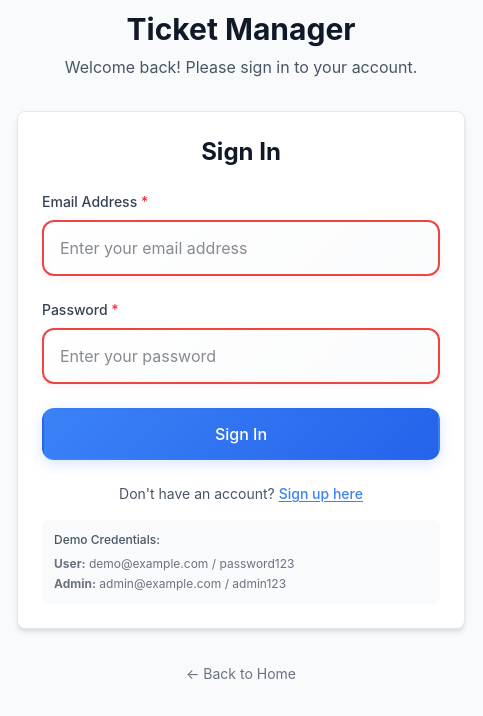
Test case: Authentication Flow Integration › Form Switching › switches between login and signup forms
Expected: the heading "Sign In" is shown, [201,137,281,166]
Note: Switch to signup
Click the button "Sign up here". click: (321, 494)
box: [279,484,363,504]
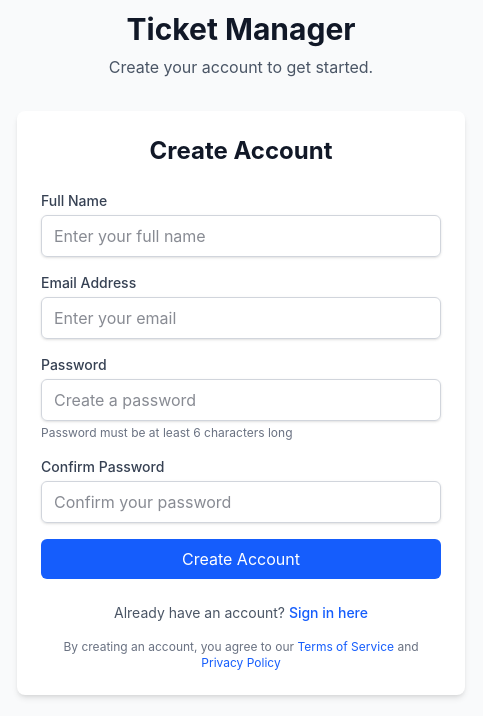
Result: the heading "Create Account" is shown at [150,136,332,165]
Note: Switch back to login
Click the button "Sign in here". click: (328, 613)
box: [289,603,368,623]
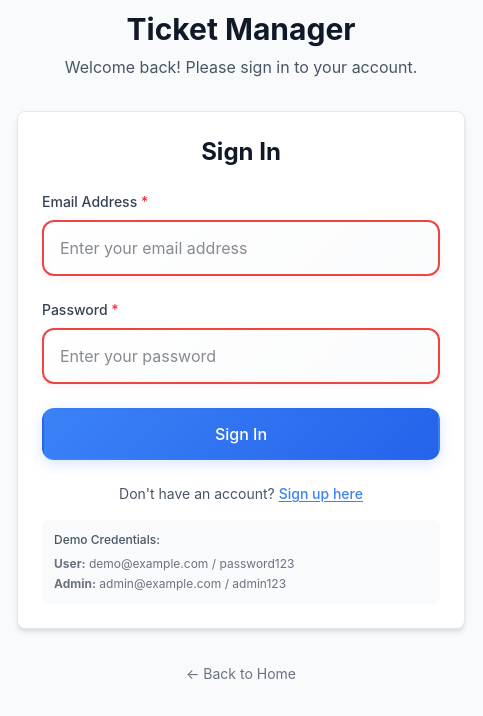
Result: the heading "Sign In" is shown at [201,137,281,166]
